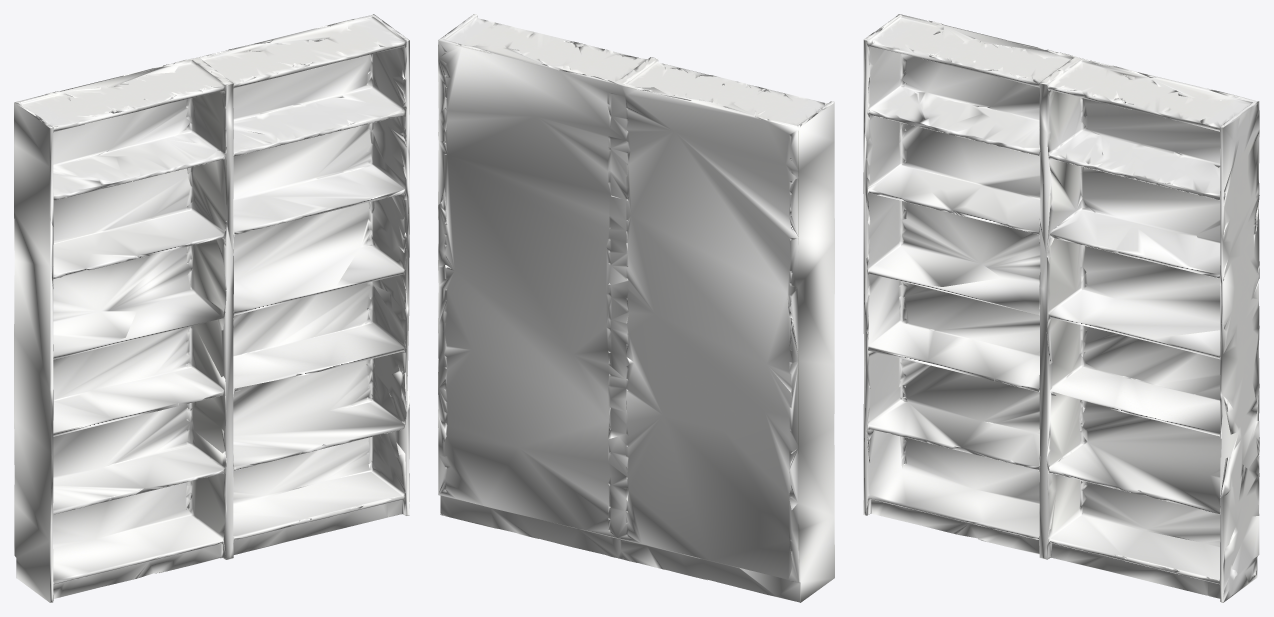
The model's file is meshy-ikea-89581514.glb.
3 renders of one model, left to right at view 1: azimuth 30°, elevation 25°; view 2: azimuth 150°, elevation 25°; view 3: azimuth 330°, elevation 25°, orthographic.
Visible parts, largest first — view 1: Exact catalog scale: ikea-89581514; view 2: Exact catalog scale: ikea-89581514; view 3: Exact catalog scale: ikea-89581514.
Part boxes in pixels (box(x1,y1,x2,y2)): Exact catalog scale: ikea-89581514: box(14, 14, 409, 602); Exact catalog scale: ikea-89581514: box(438, 14, 834, 602); Exact catalog scale: ikea-89581514: box(863, 14, 1259, 602).
Size of the model in its own units: 1.6 by 2.02 by 0.279.
Materials: 1 (1 with a texture image).
